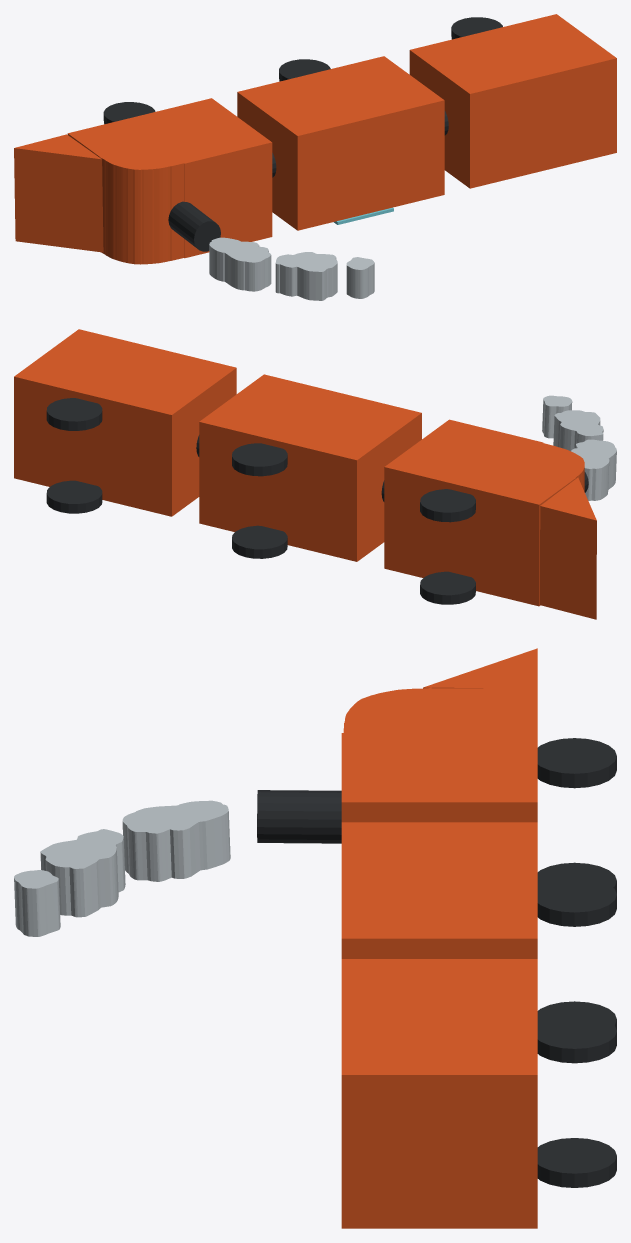
File: tinker.obj
3 renders of one model, top to bottom at view 1: azimuth 30°, elevation 25°; view 2: azimuth 150°, elevation 25°; view 3: azimuth 270°, elevation 25°, orthographic. The views are drawn at different scales.
Parts seen in each view (by area): view 1: group_0_14900002, group_0_12568524, group_0_2829873; view 2: group_0_14900002, group_0_2829873, group_0_12568524; view 3: group_0_14900002, group_0_2829873, group_0_12568524.
Part boxes in pixels (x1,y1,x2,y2): group_0_14900002: (14, 14, 616, 264); group_0_12568524: (209, 237, 374, 300); group_0_2829873: (103, 17, 502, 251); group_0_14900002: (14, 329, 596, 619); group_0_2829873: (46, 398, 588, 604); group_0_12568524: (542, 395, 616, 500); group_0_14900002: (341, 648, 537, 1228); group_0_2829873: (257, 738, 616, 1187); group_0_12568524: (14, 800, 230, 936).
Bounding box in the file's own units: 192 × 37 × 114.
